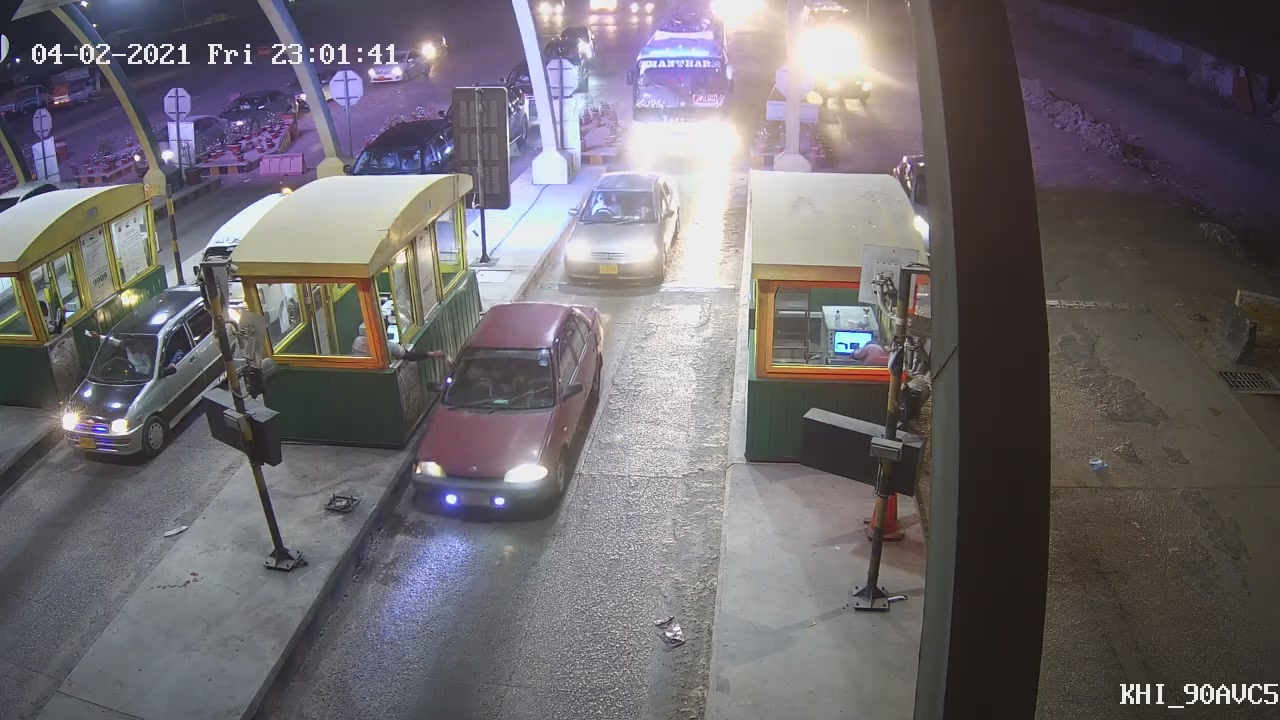F1: (404, 295, 609, 528), (565, 166, 686, 286)
